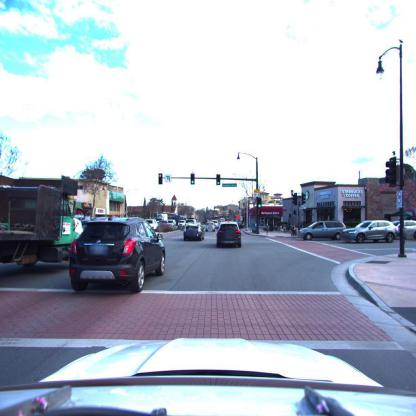car: (70, 217, 166, 294), (348, 221, 399, 245), (297, 222, 348, 242), (216, 224, 242, 249), (393, 220, 415, 242), (183, 221, 205, 241), (155, 221, 170, 232), (146, 219, 158, 231), (204, 222, 214, 231)
sign: (164, 174, 172, 184), (222, 183, 237, 187), (253, 190, 260, 197)
traffic light: (385, 158, 397, 186), (256, 196, 262, 216), (291, 192, 297, 206), (301, 192, 306, 207), (158, 172, 163, 185), (191, 172, 196, 184), (217, 175, 221, 185)
truck: (0, 176, 83, 288)
